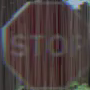Stop: (6, 4, 83, 73)
